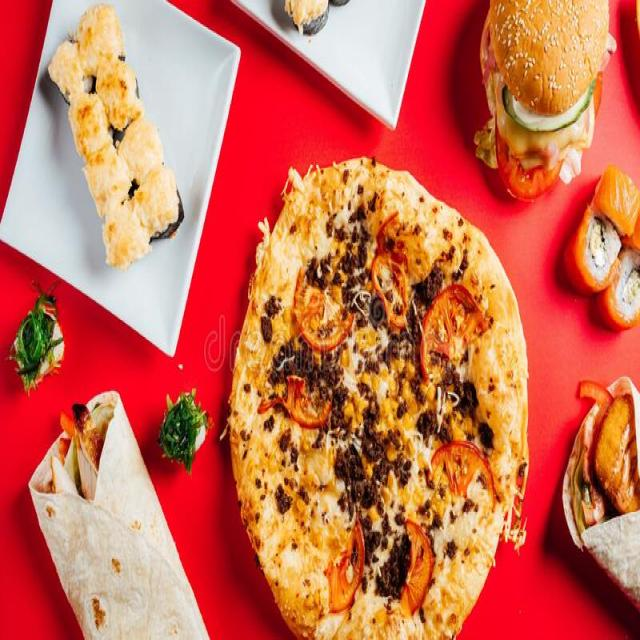burger: (476, 0, 618, 203)
pizza: (227, 155, 530, 640)
